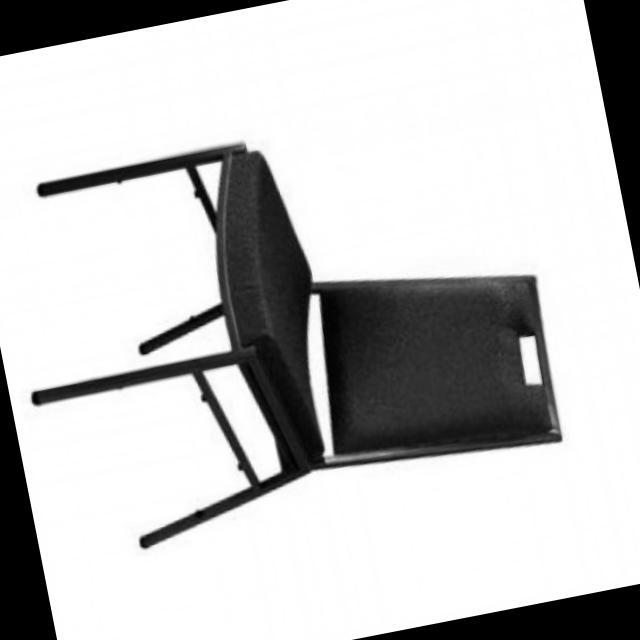chair: (0, 85, 576, 575)
